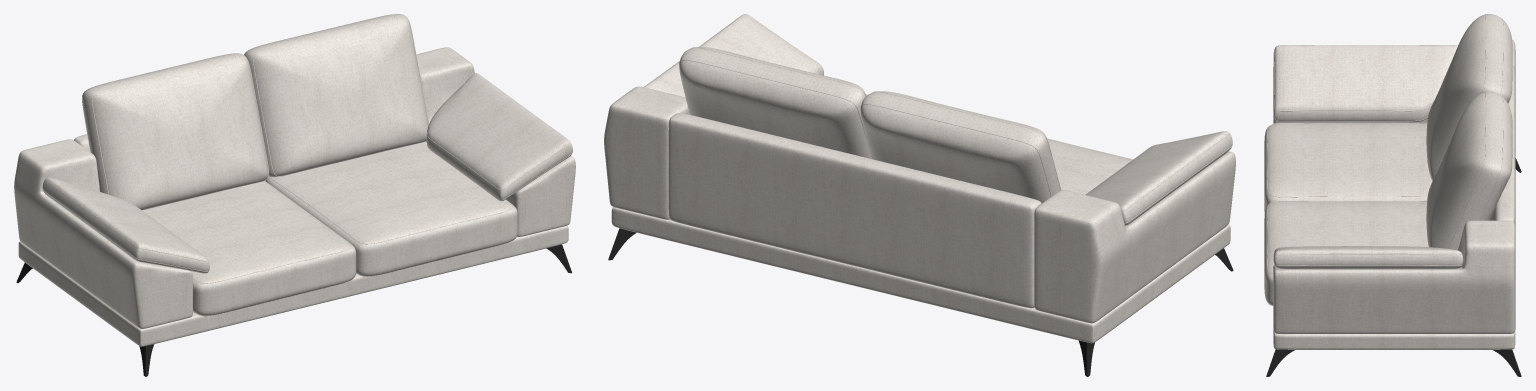
File: 2arm2seats.glb
3 renders of one model, left to right at view 1: azimuth 30°, elevation 25°; view 2: azimuth 150°, elevation 25°; view 3: azimuth 270°, elevation 25°, orthographic. The views are drawn at different scales.
Visible parts, largest first — view 1: object 7, object 11, object 17, object 8, object 2, object 23, estrutura#1, object 4, object 1; view 2: costa estrutura#2, object 2, object 7, object 11, estrutura#1, object 1, object 4, object 23, object 8; view 3: object 1, object 4, object 8, object 11, object 17, object 7, object 23, estrutura#1, costa estrutura#2, D=~ 0,00 m (×3), pe (×2), object 2.
Boxes of the visible parts, bbox=[...] form: object 7: bbox=[82, 53, 268, 210]; object 11: bbox=[244, 14, 428, 177]; object 17: bbox=[265, 141, 517, 276]; object 8: bbox=[142, 181, 356, 315]; object 2: bbox=[14, 139, 192, 328]; object 23: bbox=[426, 73, 572, 201]; estrutura#1: bbox=[18, 225, 568, 346]; object 4: bbox=[42, 177, 209, 273]; object 1: bbox=[416, 47, 575, 236]; costa estrutura#2: bbox=[668, 113, 1041, 308]; object 2: bbox=[1034, 151, 1235, 323]; object 7: bbox=[860, 91, 1060, 203]; object 11: bbox=[679, 47, 870, 158]; estrutura#1: bbox=[611, 207, 1230, 343]; object 1: bbox=[604, 86, 689, 219]; object 4: bbox=[1085, 131, 1232, 225]; object 23: bbox=[644, 14, 823, 96]; object 8: bbox=[1047, 138, 1132, 194]; object 1: bbox=[1273, 220, 1515, 333]; object 4: bbox=[1273, 45, 1457, 122]; object 8: bbox=[1264, 123, 1432, 213]; object 11: bbox=[1426, 91, 1512, 250]; object 17: bbox=[1264, 201, 1428, 305]; object 7: bbox=[1426, 14, 1512, 180]; object 23: bbox=[1273, 246, 1463, 269]; estrutura#1: bbox=[1273, 325, 1515, 349]; costa estrutura#2: bbox=[1490, 66, 1515, 229]; D=~ 0,00 m (×3): bbox=[1267, 47, 1461, 254]; pe (×2): bbox=[1266, 349, 1521, 376]; object 2: bbox=[1273, 40, 1515, 123].
Bounding box in the file's own units: 2.02 × 0.8329 × 1.03.
2 materials, 1 textured.
